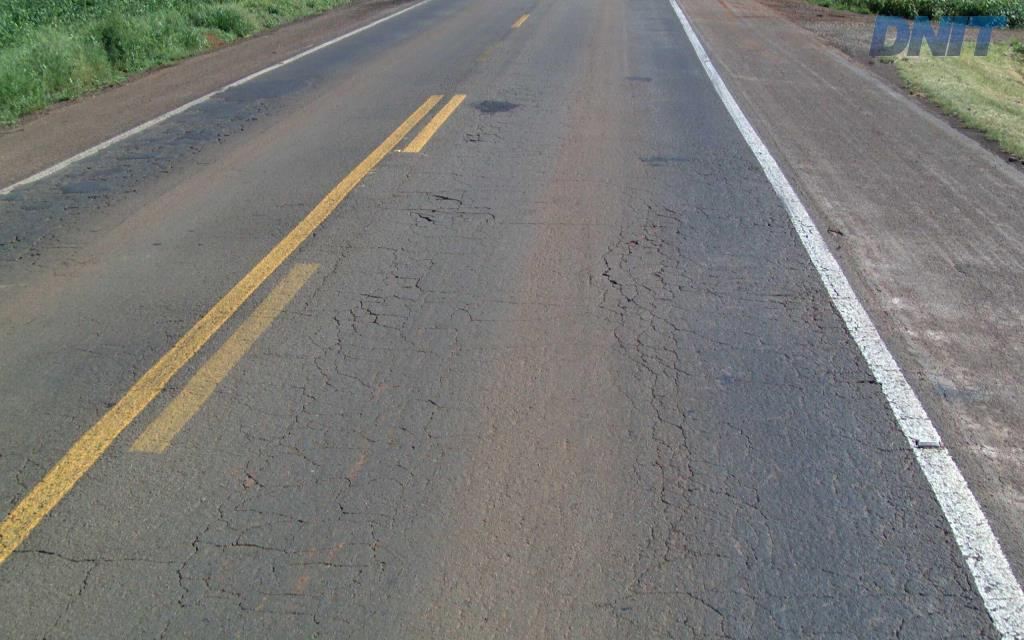crack: (780, 530, 855, 602), (914, 510, 958, 591), (741, 574, 834, 606), (818, 510, 853, 567)
